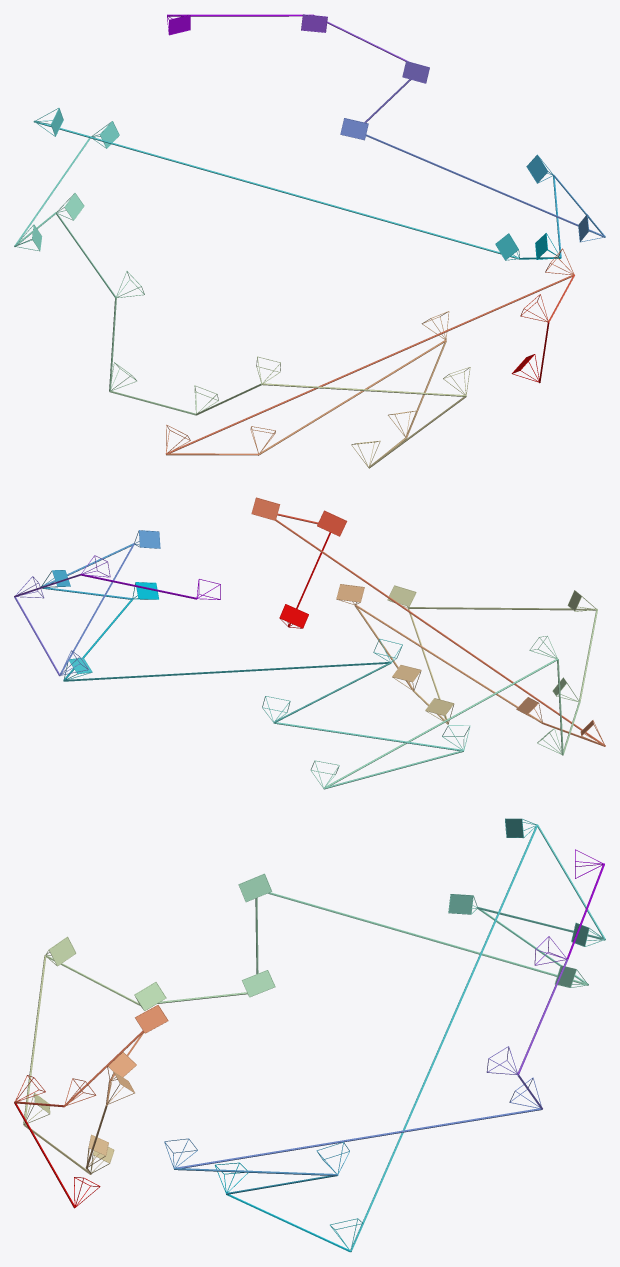
The model's file is vgtt.glb.
3 views of the same model, one above another, from view 1: azimuth 30°, elevation 25°; view 2: azimuth 150°, elevation 25°; view 3: azimuth 270°, elevation 25° (orthographic). The views are drawn at different scales.
Parts seen in each view (by area): view 1: trajectory, frustums; view 2: trajectory, frustums; view 3: trajectory, frustums.
Boxes of the visible parts, x1,y1,x2,y2 form: trajectory: (14,14,605,468); frustums: (15,14,604,467); trajectory: (14,513,605,789); frustums: (16,497,604,788); trajectory: (14,824,605,1252); frustums: (15,818,605,1250).
Size of the model in its own units: 1.76 by 1.01 by 1.64.
